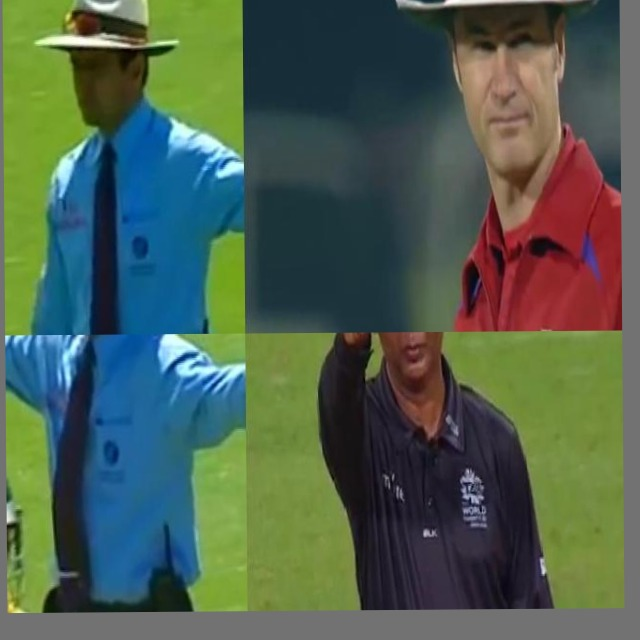No_Action: (376, 0, 622, 332)
No_Ball: (2, 0, 245, 335)
Out: (295, 331, 567, 611)
Wide: (5, 334, 247, 523)
